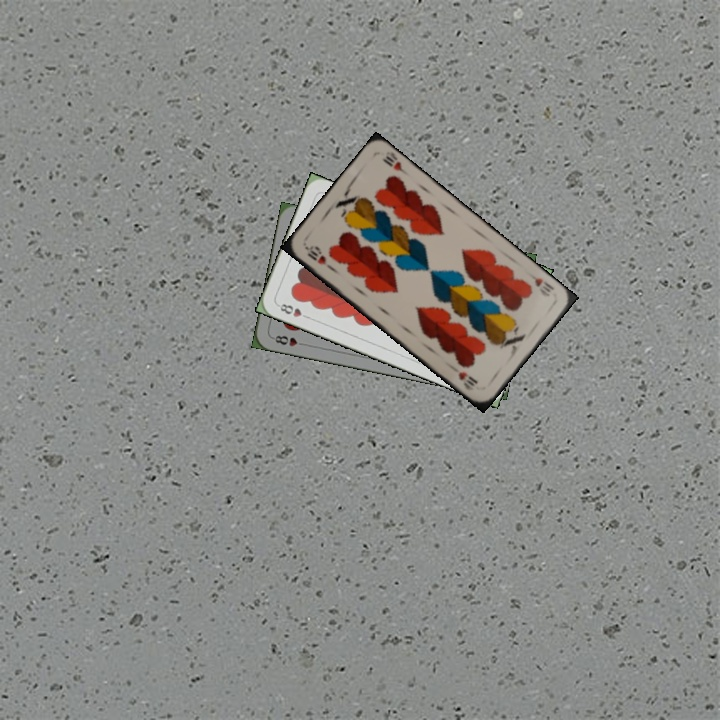H10: (301, 242, 336, 273), (524, 268, 557, 299)
H8: (274, 299, 313, 321), (268, 331, 309, 349)
